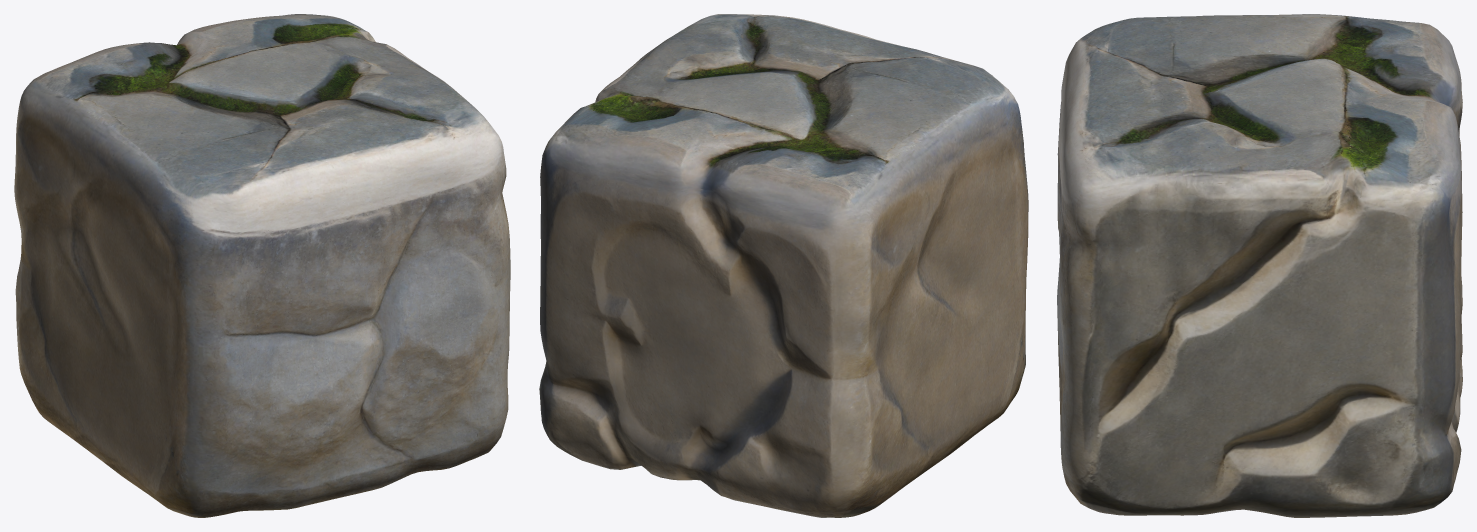
Rendered from stone_block.glb.
3 renders of one model, left to right at view 1: azimuth 30°, elevation 25°; view 2: azimuth 150°, elevation 25°; view 3: azimuth 270°, elevation 25°, orthographic. The views are drawn at different scales.
Visible parts, largest first — view 1: Mesh1_Mesh1.010; view 2: Mesh1_Mesh1.010; view 3: Mesh1_Mesh1.010.
Boxes of the visible parts, left/top/right/bottom form: Mesh1_Mesh1.010: left=14, top=14, right=510, bottom=517; Mesh1_Mesh1.010: left=539, top=14, right=1028, bottom=517; Mesh1_Mesh1.010: left=1057, top=14, right=1462, bottom=517.
Size of the model in its own units: 2 by 2 by 2.
1 material, 1 textured.
